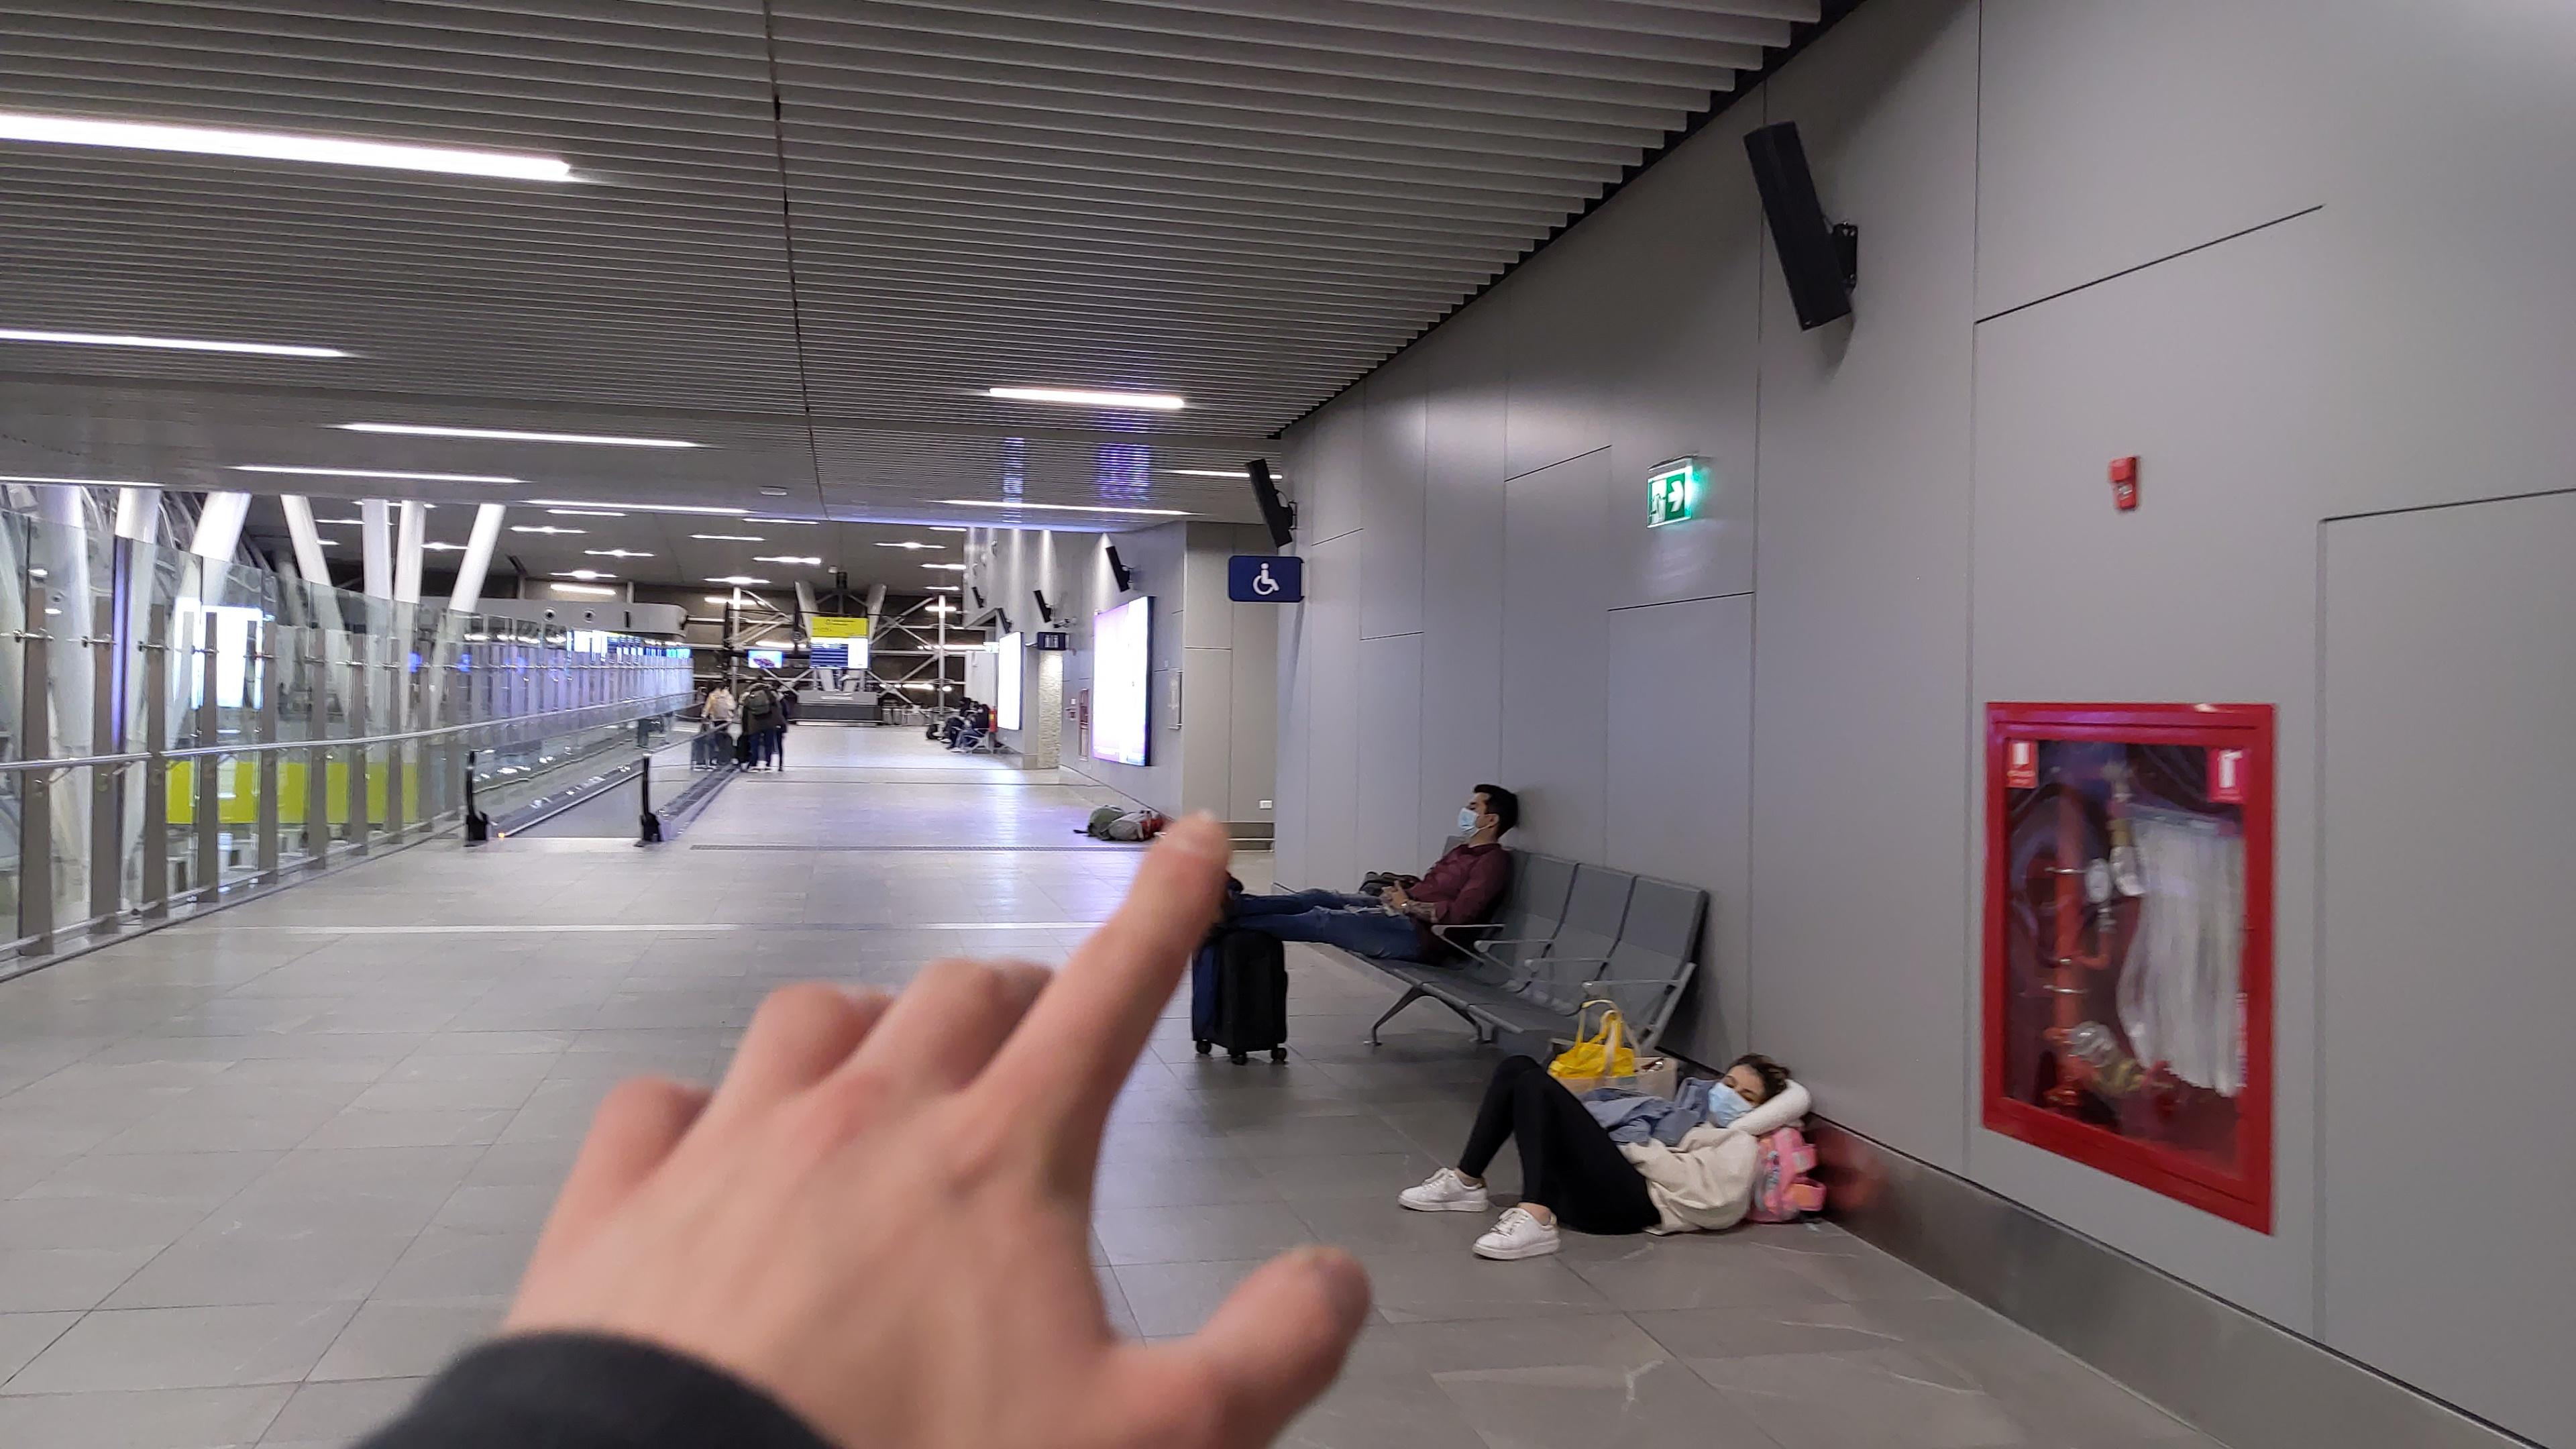bathrooms: (1044, 635, 1060, 649)
emergency exit: (1647, 479, 1668, 525)
emergency right arrow: (1667, 476, 1686, 515)
handicapped symbol: (1251, 561, 1279, 598)
